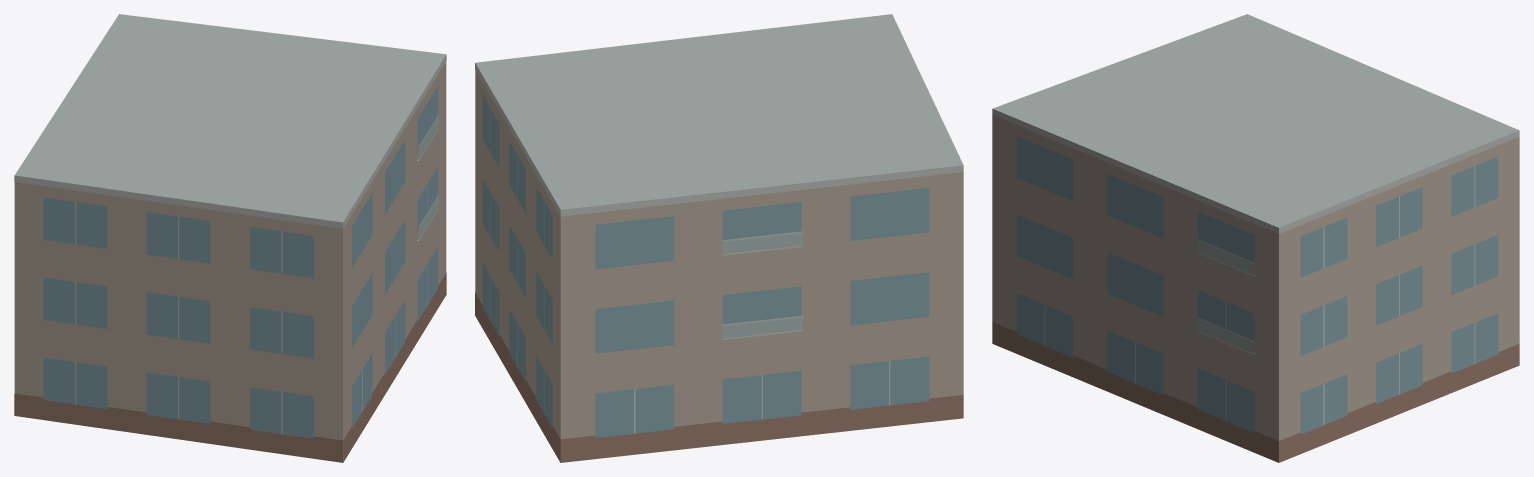
Rendered from survey-upis-32813545.glb.
3 views of the same model, side by side, from view 1: azimuth 30°, elevation 25°; view 2: azimuth 150°, elevation 25°; view 3: azimuth 270°, elevation 25° (orthographic). The views are drawn at different scales.
Visible parts, largest first — view 1: survey-upis-32813545.tmp; view 2: survey-upis-32813545.tmp; view 3: survey-upis-32813545.tmp.
Part boxes in pixels (x1,y1,x2,y2): survey-upis-32813545.tmp: (14, 14, 446, 462); survey-upis-32813545.tmp: (475, 14, 963, 462); survey-upis-32813545.tmp: (992, 14, 1519, 462).
Bounding box in the file's own units: 17.86 × 9.15 × 18.61.
